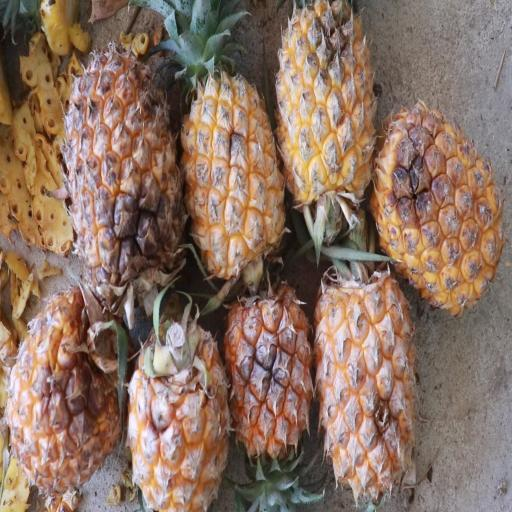Pineapple - v8 v1: (60, 34, 190, 329), (366, 88, 502, 322), (175, 11, 291, 282), (310, 243, 421, 500), (4, 256, 124, 492), (120, 271, 232, 512), (220, 252, 314, 506), (274, 0, 378, 229)
